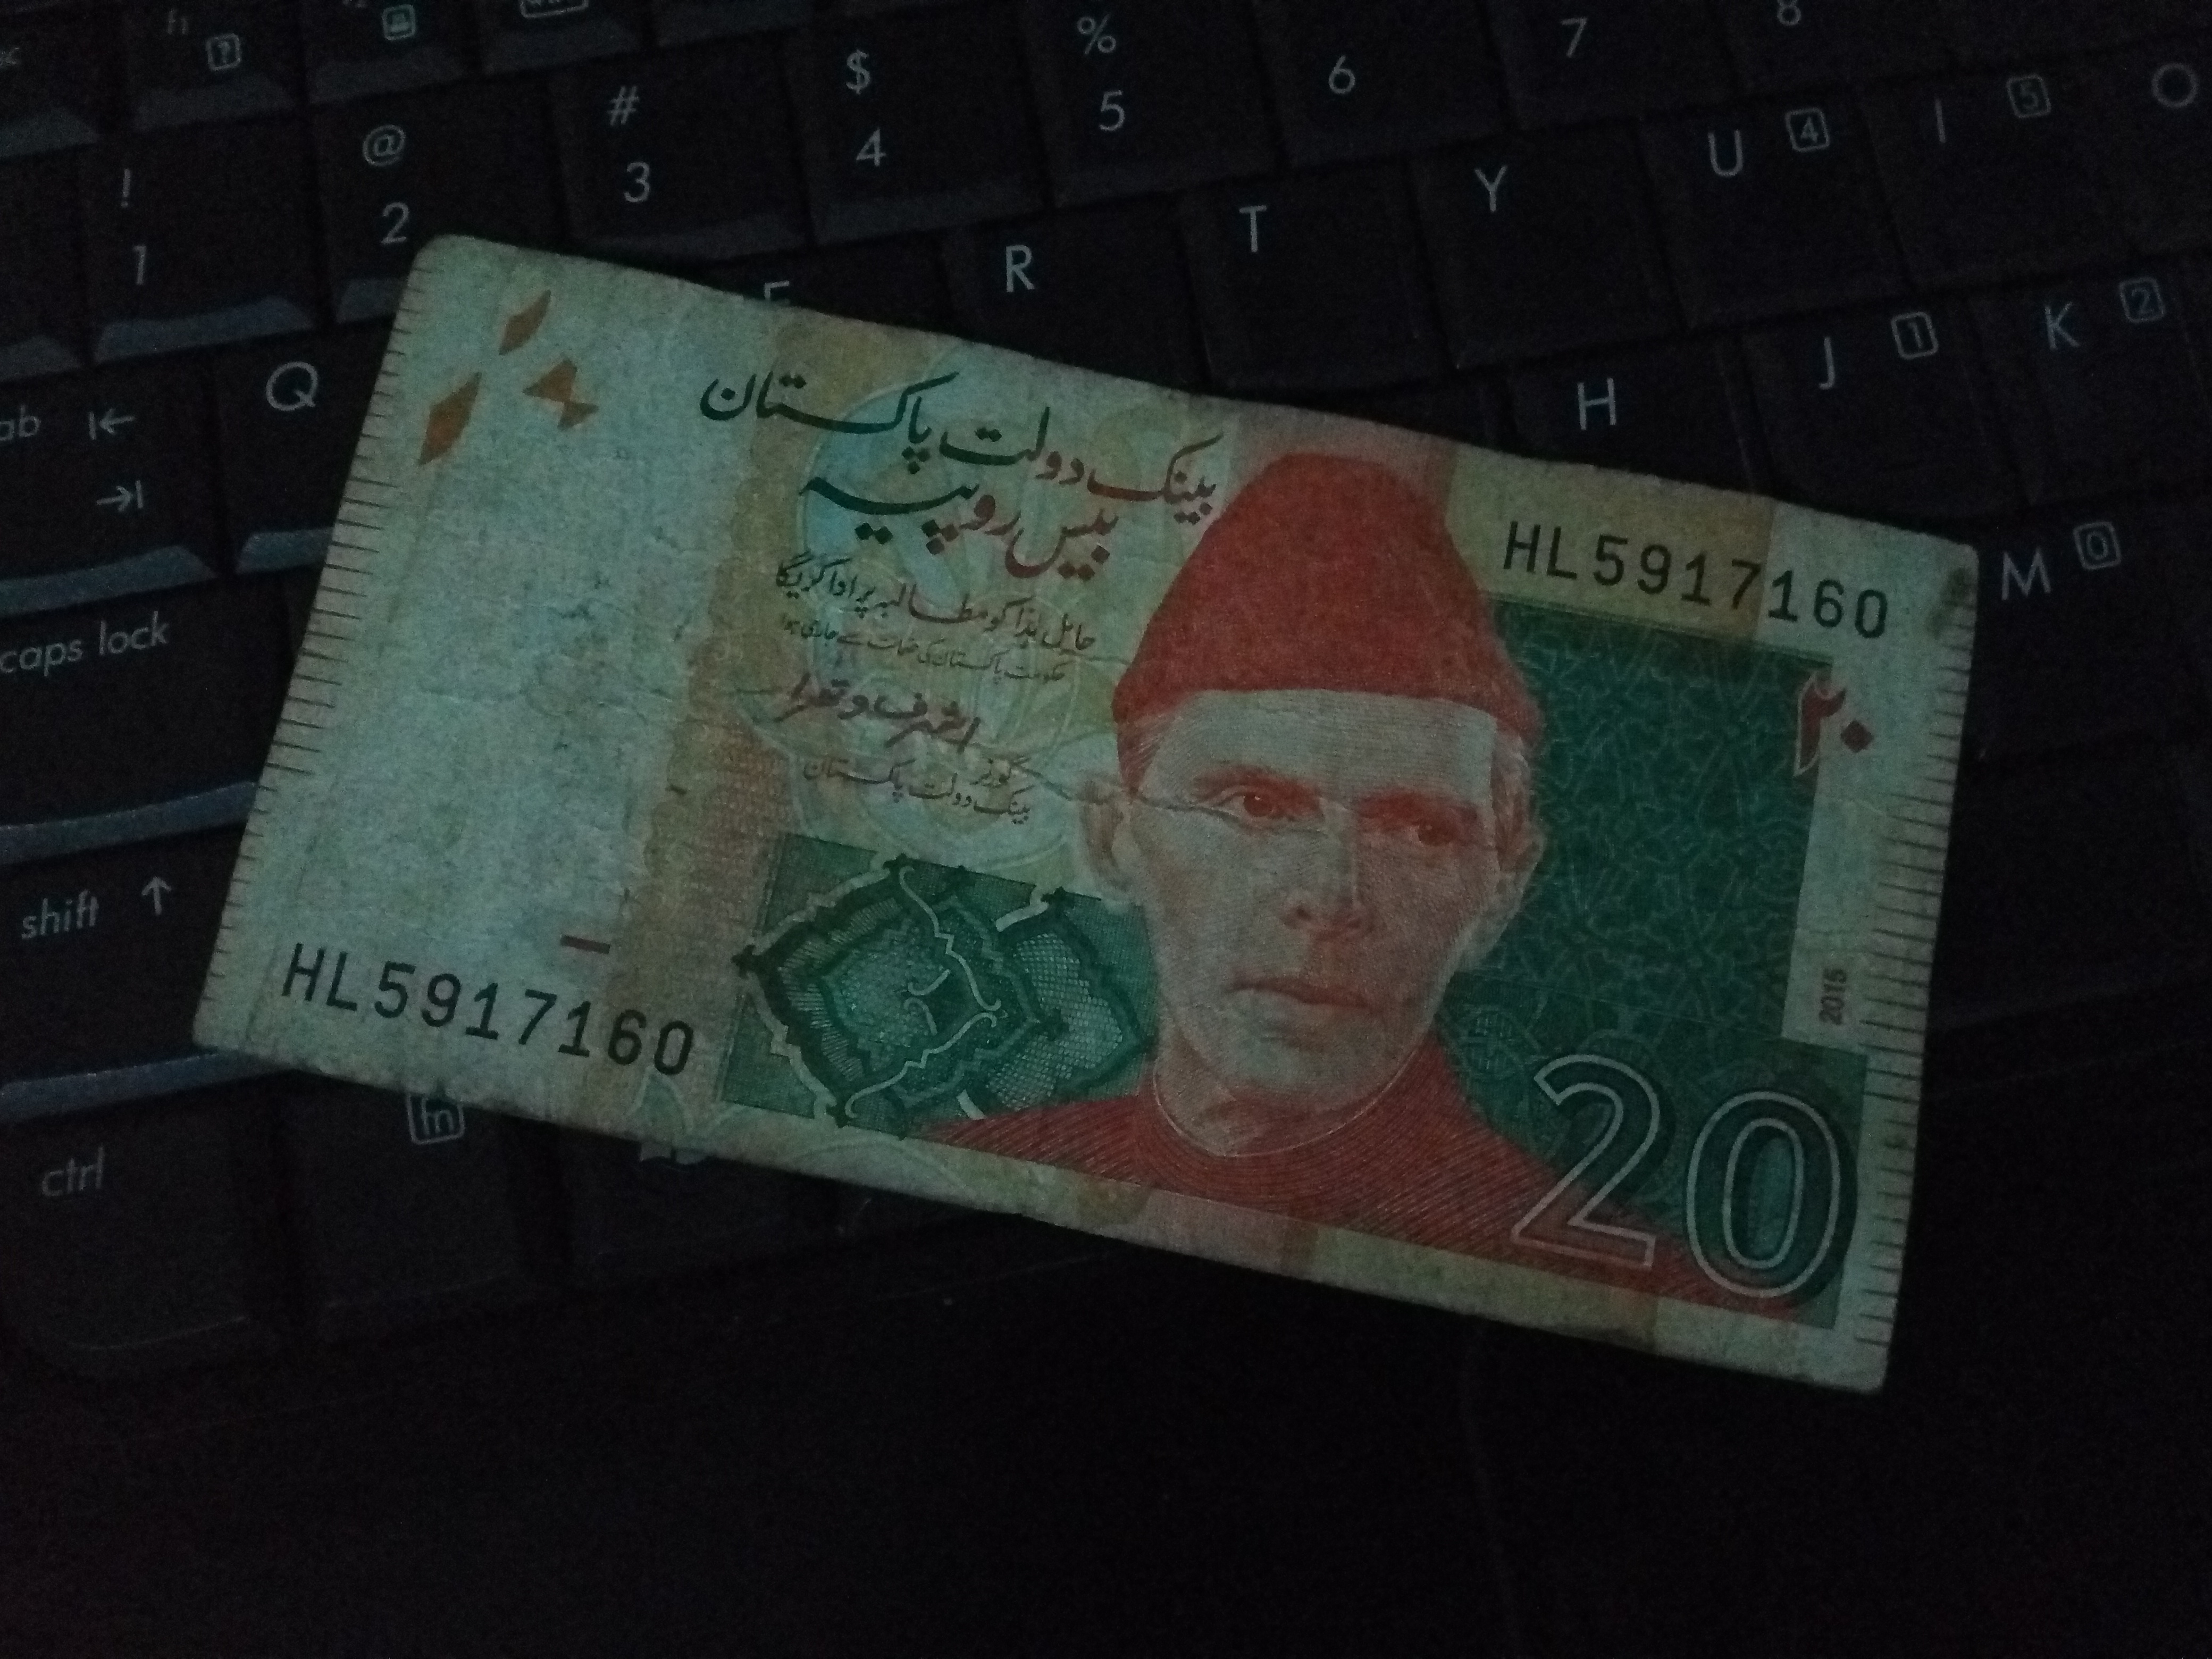20 rupee: (230, 223, 2073, 1439)
